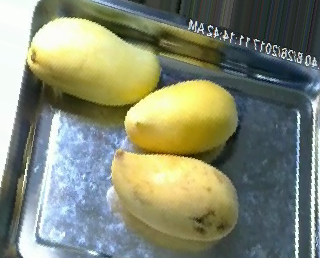Mango: (25, 11, 170, 111), (107, 145, 242, 248), (123, 74, 242, 155)
